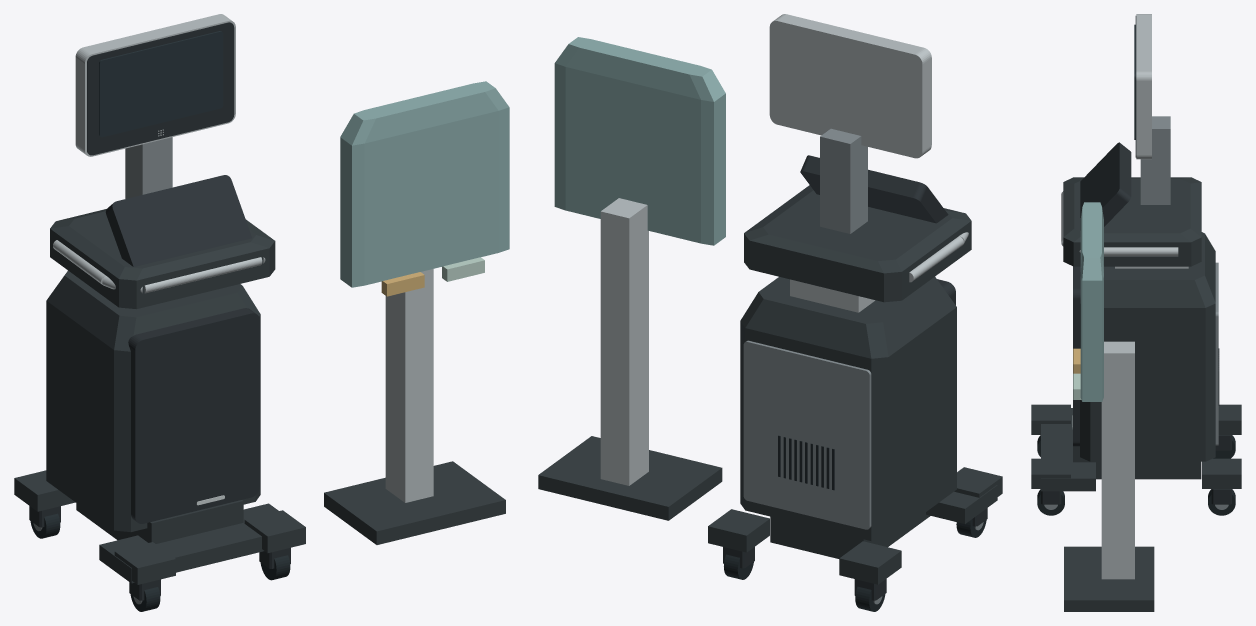
The model's file is vevo3100-console.glb.
3 renders of one model, left to right at view 1: azimuth 30°, elevation 25°; view 2: azimuth 150°, elevation 25°; view 3: azimuth 270°, elevation 25°, orthographic. The views are drawn at different scales.
Visible parts, largest first — view 1: Ruler_display_body, Lower_front_closed_rectangular_panel, Lower_console_dark_round_mass, Ruler_stand_pillar, Console_black_tray, Upper_display_unlit_glass, Lower_screen_black_border, Ruler_stand_base, Upper_display_black_border, Nominal_plan_width_crosspiece, Upper_display_silver_halo, Planar_center_bed (+7 smaller); view 2: Ruler_display_body, Lower_console_dark_round_mass, Opaque_rear_cover, Upper_display_silver_halo, Console_black_tray, Ruler_stand_pillar, Ruler_stand_base, Upper_display_riser, Lower_screen_black_border, Planar_center_bed, Fixed_caster_outreach_(-1, -1), Fixed_caster_outreach_(1, -1) (+4 smaller); view 3: Lower_console_dark_round_mass, Console_black_tray, Ruler_stand_pillar, Ruler_stand_base, Ruler_display_body, Lower_screen_black_border, Upper_display_silver_halo, Nominal_plan_width_crosspiece, Upper_display_riser, Planar_center_bed, Fixed_caster_outreach_(1, -1), Lower_front_closed_rectangular_panel (+8 smaller).
Part boxes in pixels (left/top/right/bottom): Ruler_display_body: left=340, top=81, right=509, bottom=287; Lower_front_closed_rectangular_panel: left=128, top=308, right=259, bottom=523; Lower_console_dark_round_mass: left=46, top=270, right=260, bottom=531; Ruler_stand_pillar: left=385, top=269, right=433, bottom=502; Console_black_tray: left=50, top=209, right=275, bottom=309; Upper_display_unlit_glass: left=99, top=31, right=223, bottom=137; Lower_screen_black_border: left=105, top=175, right=252, bottom=266; Ruler_stand_base: left=324, top=461, right=505, bottom=544; Upper_display_black_border: left=87, top=22, right=234, bottom=155; Nominal_plan_width_crosspiece: left=99, top=503, right=278, bottom=583; Upper_display_silver_halo: left=75, top=14, right=235, bottom=156; Planar_center_bed: left=76, top=500, right=243, bottom=543; Ruler_display_body: left=554, top=37, right=725, bottom=245; Lower_console_dark_round_mass: left=740, top=276, right=956, bottom=541; Opaque_rear_cover: left=743, top=340, right=871, bottom=529; Upper_display_silver_halo: left=769, top=14, right=931, bottom=158; Console_black_tray: left=744, top=185, right=971, bottom=302; Ruler_stand_pillar: left=600, top=198, right=648, bottom=485; Ruler_stand_base: left=538, top=436, right=722, bottom=520; Upper_display_riser: left=820, top=128, right=867, bottom=233; Lower_screen_black_border: left=800, top=155, right=948, bottom=223; Planar_center_bed: left=770, top=512, right=930, bottom=558; Fixed_caster_outreach_(-1, -1): left=839, top=541, right=901, bottom=584; Fixed_caster_outreach_(1, -1): left=708, top=509, right=769, bottom=552; Lower_console_dark_round_mass: left=1080, top=232, right=1215, bottom=461; Console_black_tray: left=1063, top=177, right=1201, bottom=266; Ruler_stand_pillar: left=1101, top=341, right=1134, bottom=579; Ruler_stand_base: left=1064, top=546, right=1154, bottom=611; Ruler_display_body: left=1080, top=202, right=1103, bottom=401; Lower_screen_black_border: left=1080, top=142, right=1131, bottom=230; Upper_display_silver_halo: left=1136, top=14, right=1151, bottom=159; Nominal_plan_width_crosspiece: left=1041, top=408, right=1095, bottom=491; Upper_display_riser: left=1140, top=116, right=1170, bottom=204; Planar_center_bed: left=1073, top=446, right=1201, bottom=479; Fixed_caster_outreach_(1, -1): left=1202, top=458, right=1241, bottom=488; Lower_front_closed_rectangular_panel: left=1073, top=266, right=1080, bottom=446.
Bounding box in the file's own units: 1.28 × 1.58 × 0.68.
